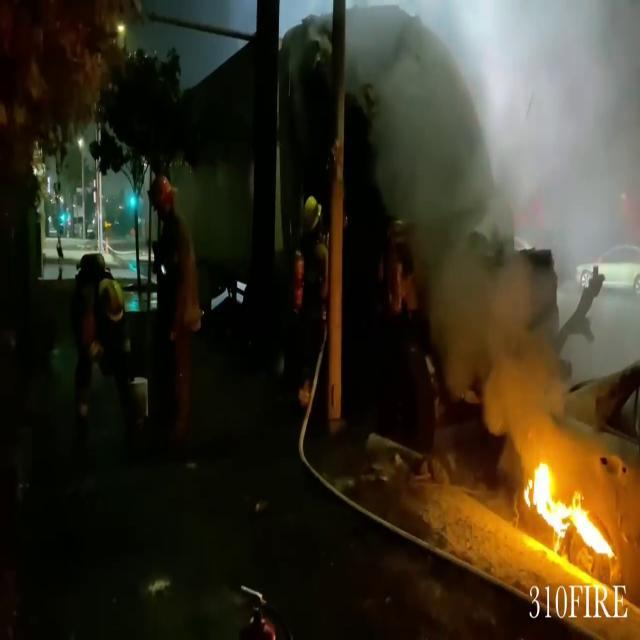Fire: (520, 446, 612, 556)
Smoke: (355, 0, 640, 278)
